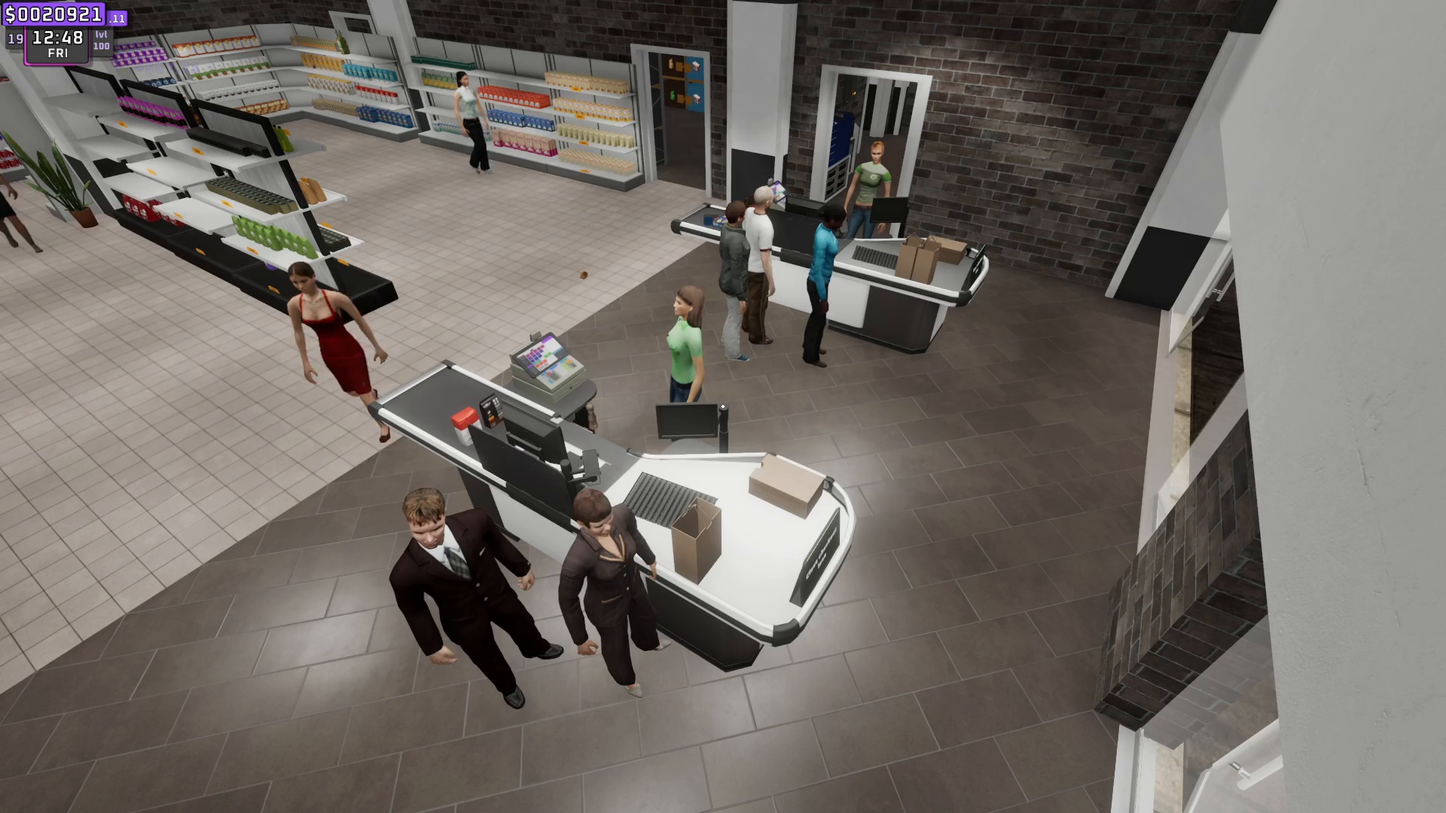Client: (390, 490, 553, 698), (270, 255, 396, 441), (574, 474, 657, 698), (809, 205, 846, 369), (744, 184, 778, 351), (661, 284, 710, 398), (718, 207, 749, 362)
Employee: (847, 141, 889, 238)
